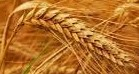Healthy Wheat: (23, 7, 132, 67)
